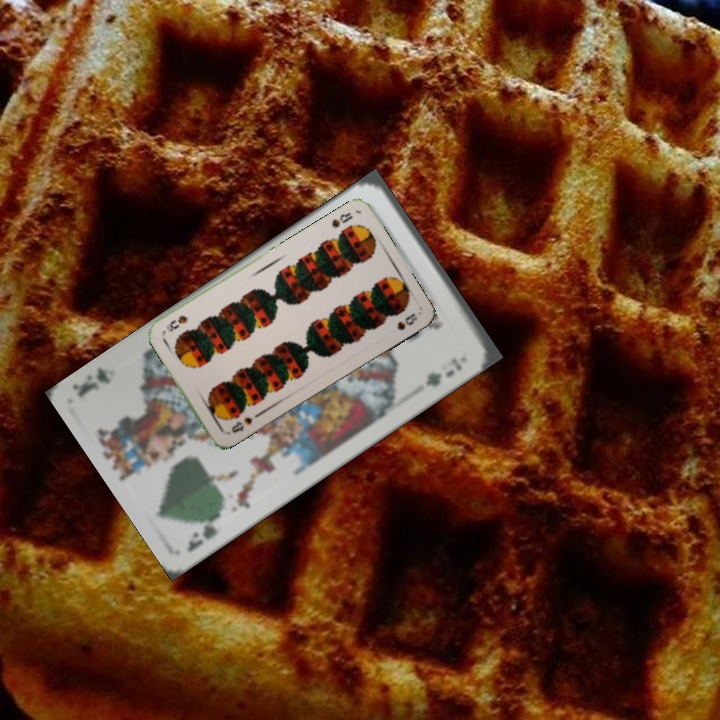GK: (182, 506, 225, 555)
S8: (227, 412, 255, 436), (327, 208, 356, 230)
